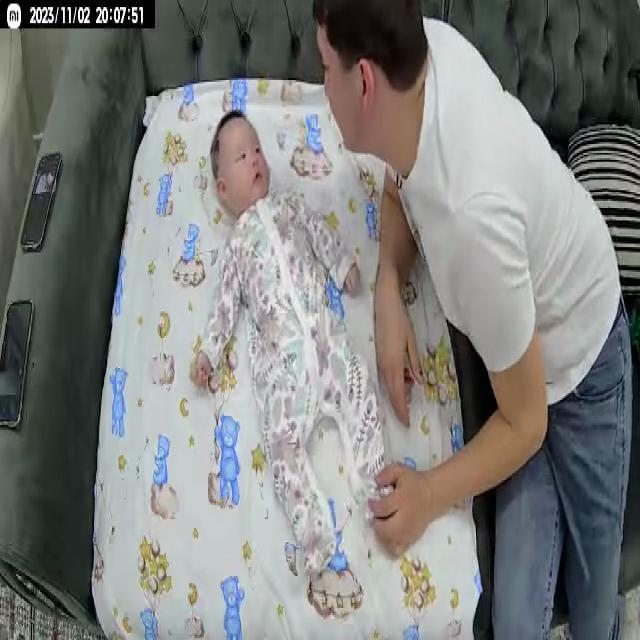baby: (187, 106, 398, 584)
